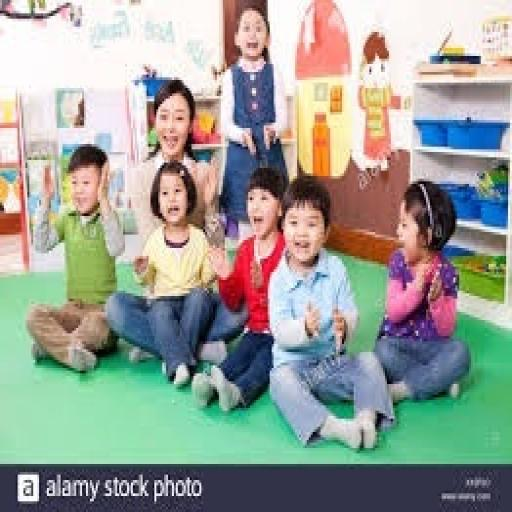clapping: (266, 173, 396, 451)
